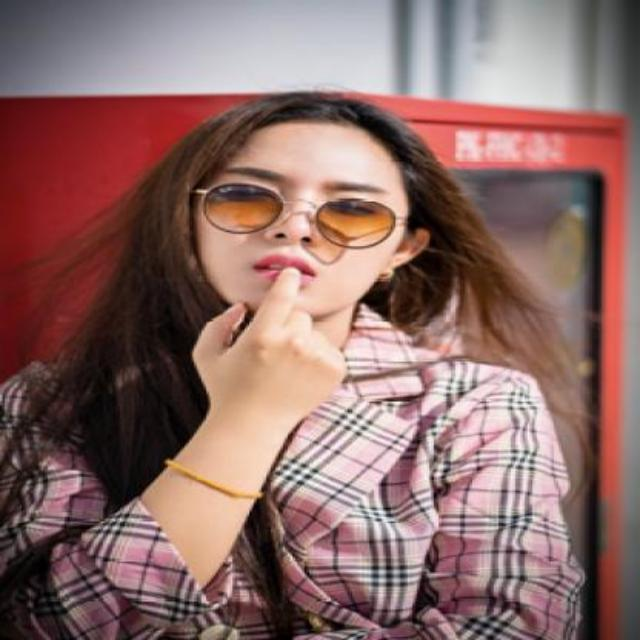glasses: (190, 182, 410, 248)
